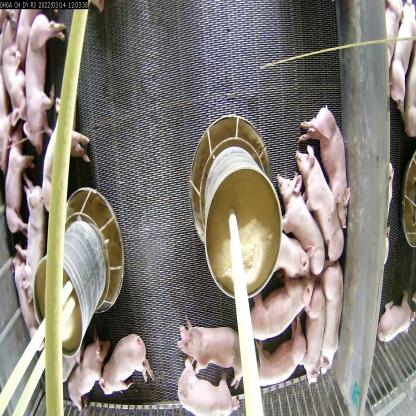Pig: (296, 95, 353, 234), (21, 18, 63, 148), (296, 146, 342, 264), (276, 166, 326, 274), (41, 102, 92, 206), (242, 274, 314, 344), (172, 316, 246, 378), (294, 277, 332, 388), (65, 336, 117, 415), (101, 326, 155, 398), (172, 362, 245, 415), (3, 136, 38, 236), (320, 264, 350, 376), (19, 183, 49, 294), (250, 332, 309, 388), (0, 26, 24, 132), (275, 230, 306, 282)
